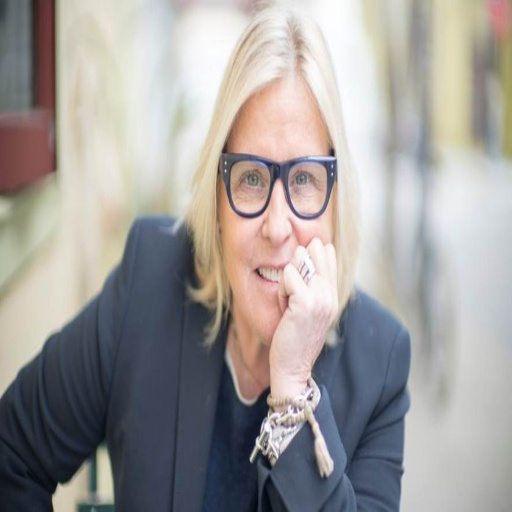hand: (266, 236, 337, 392)
